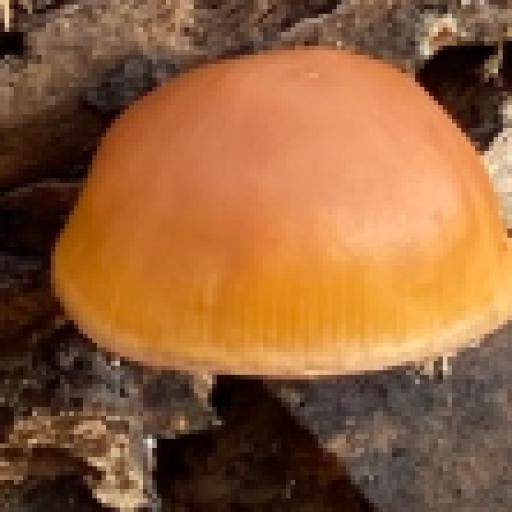mushroom: (46, 46, 512, 379)
